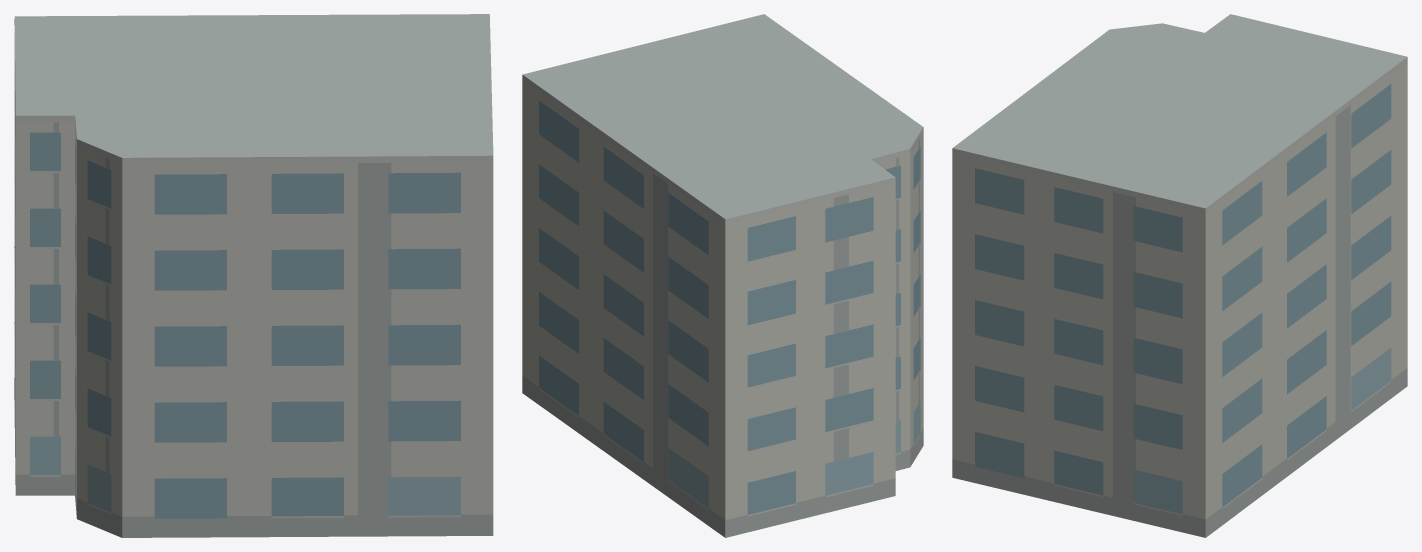
Rendered from survey-upis-32889178.glb.
3 renders of one model, left to right at view 1: azimuth 30°, elevation 25°; view 2: azimuth 150°, elevation 25°; view 3: azimuth 270°, elevation 25°, orthographic. The views are drawn at different scales.
Visible parts, largest first — view 1: survey-upis-32889178.tmp; view 2: survey-upis-32889178.tmp; view 3: survey-upis-32889178.tmp.
Boxes of the visible parts, x1=… form: survey-upis-32889178.tmp: x1=14, y1=14, x2=493, y2=537; survey-upis-32889178.tmp: x1=522, y1=14, x2=923, y2=537; survey-upis-32889178.tmp: x1=952, y1=14, x2=1407, y2=537.
Bounding box in the file's own units: 18.11 × 14.3 × 17.92.
